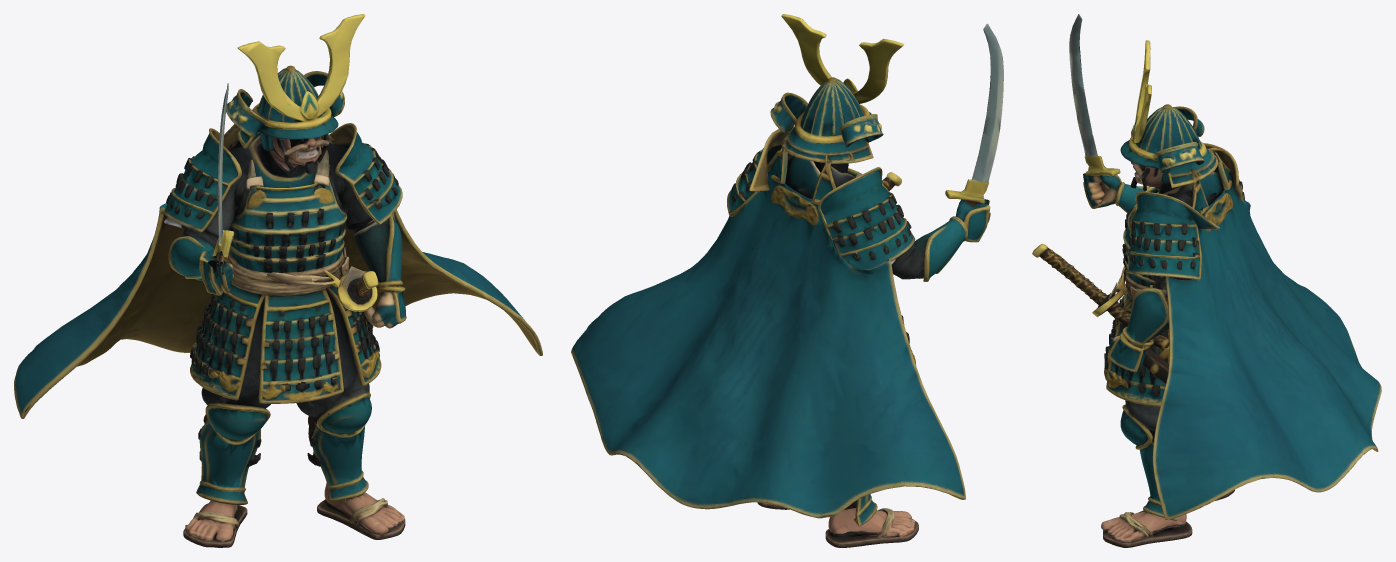
File: detail_12.glb
3 views of the same model, side by side, from view 1: azimuth 30°, elevation 25°; view 2: azimuth 150°, elevation 25°; view 3: azimuth 270°, elevation 25° (orthographic). The views are drawn at different scales.
Size of the model in its own units: 0.9383 by 0.9989 by 0.7063.
1 material, 1 textured.
